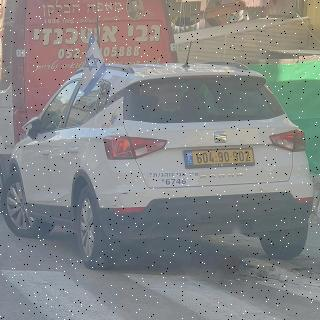LicensePlate: (192, 149, 254, 165)
